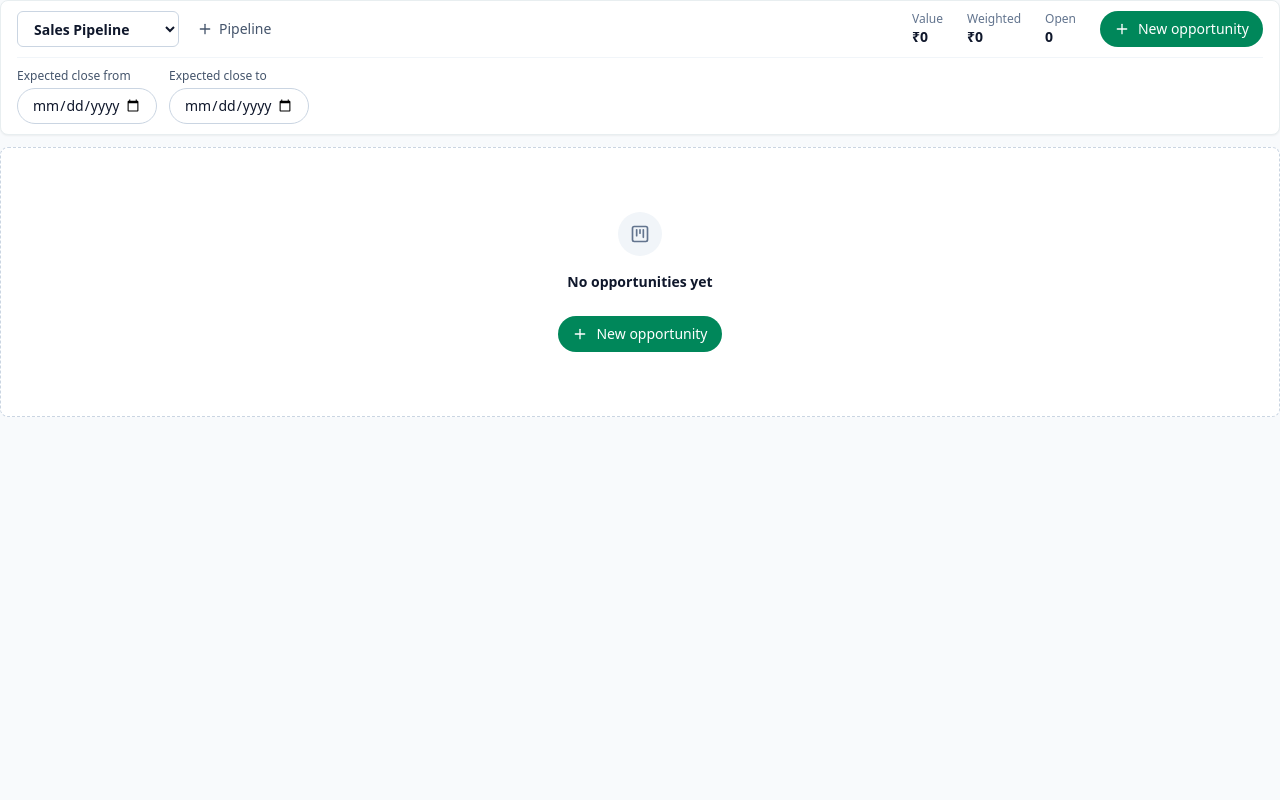
Test case: choosing and configuring pipelines › creates a pipeline from an editable template, with stages reordered by buttons
Click the button with aria-label "New pipeline".
click(234, 29)  # box top-left (187, 13), bottom-right (281, 45)
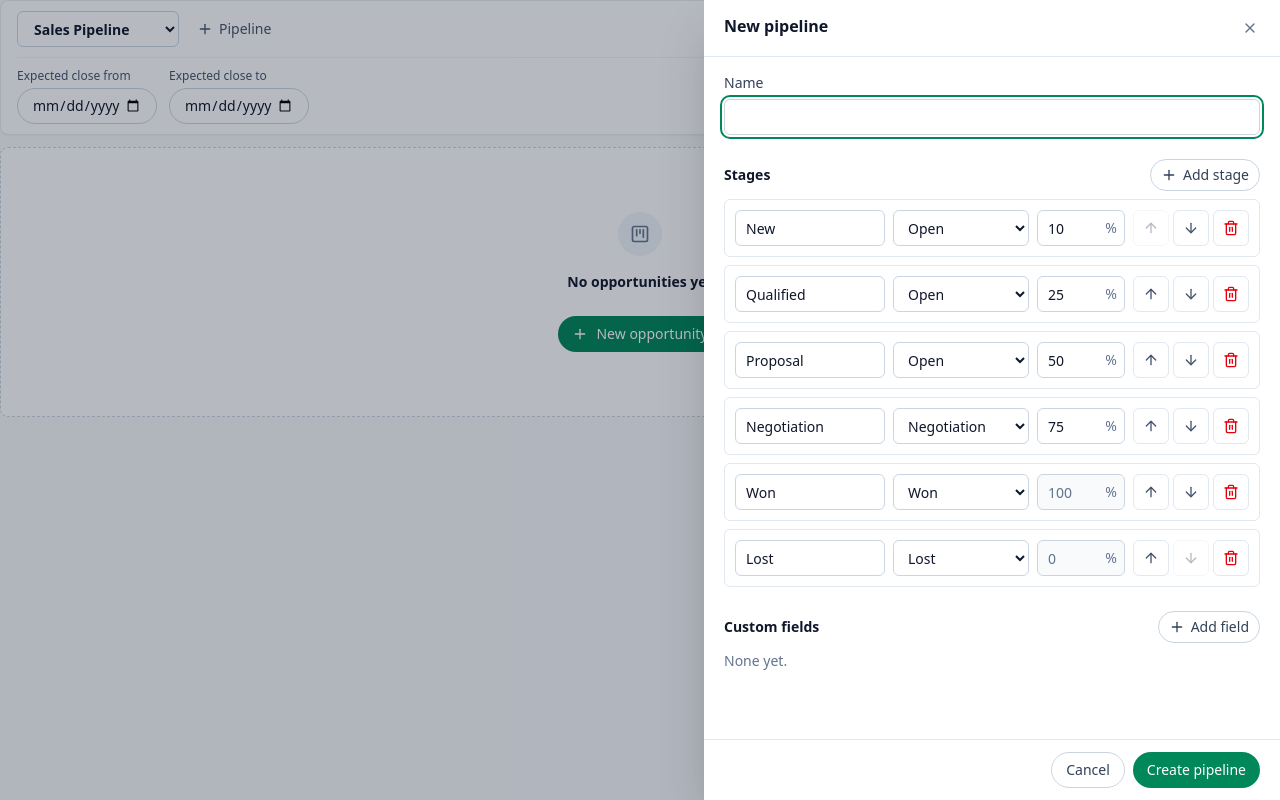
Type "Diagnostics Sales" into the field labelled "Name".
click(992, 117); type("Diagnostics Sales")  # box top-left (724, 99), bottom-right (1260, 135)
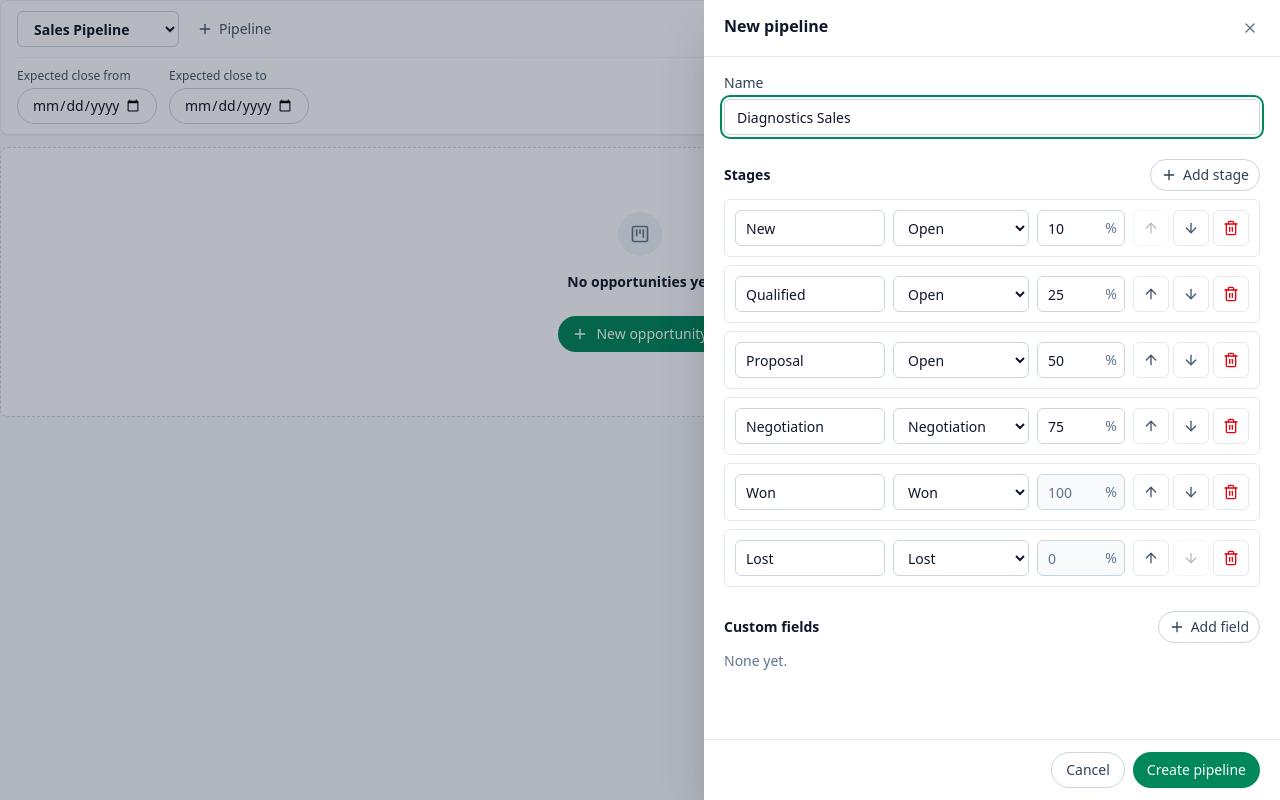
// Rename "Proposal" to "Demo", move it above "Qualified", remove "Lost".
Replace the text in the 5th field named "Stage 3 name" with "Demo" at (810, 360), box top-left (735, 342), bottom-right (885, 378)
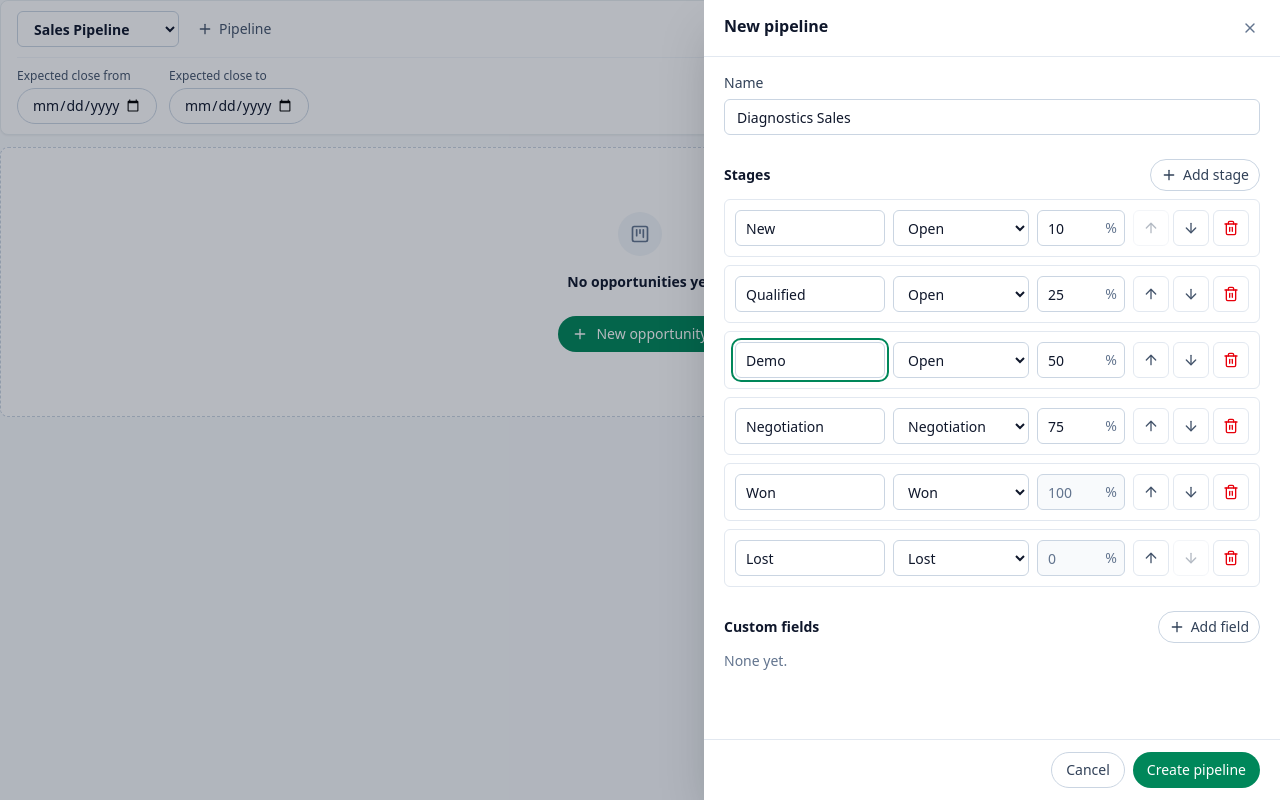
Click the button named "Move Demo up".
click(1151, 360)  # box top-left (1133, 342), bottom-right (1169, 378)
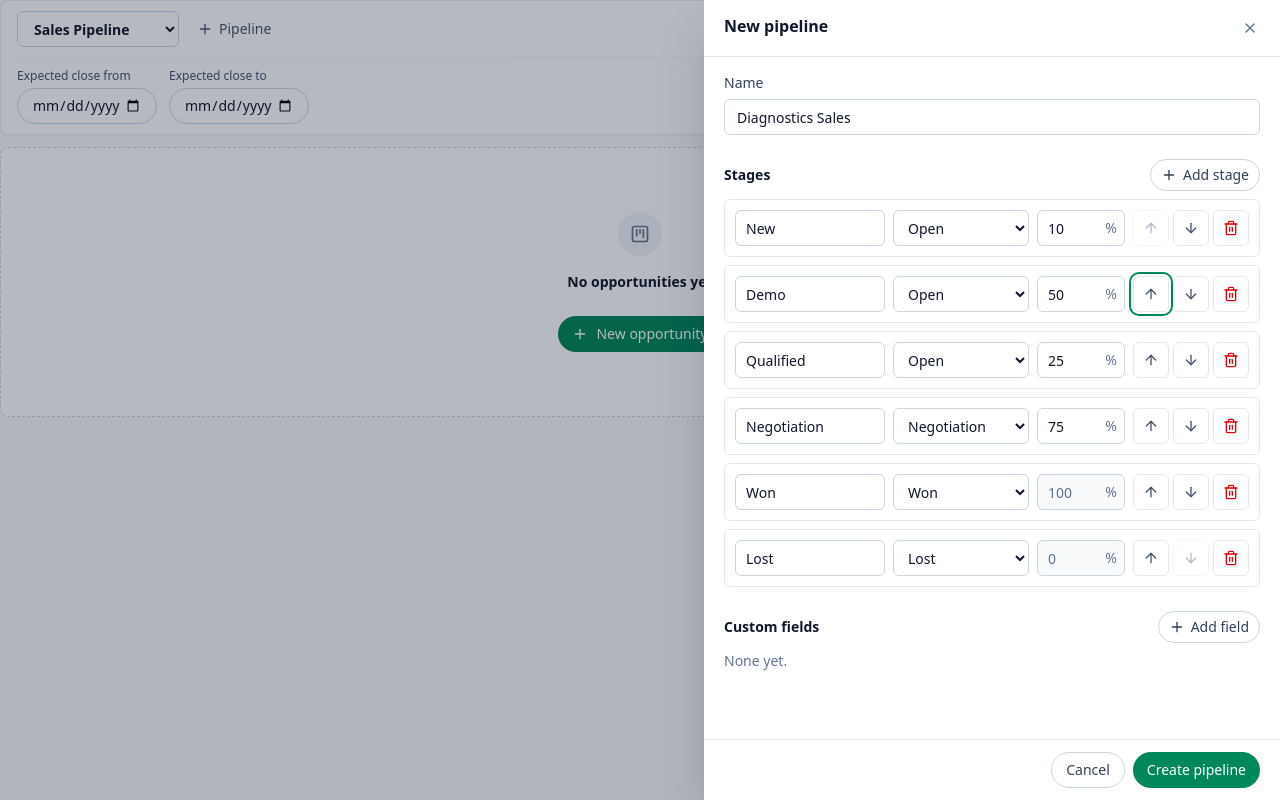
Click the button named "Remove Lost".
click(1231, 558)  # box top-left (1213, 540), bottom-right (1249, 576)
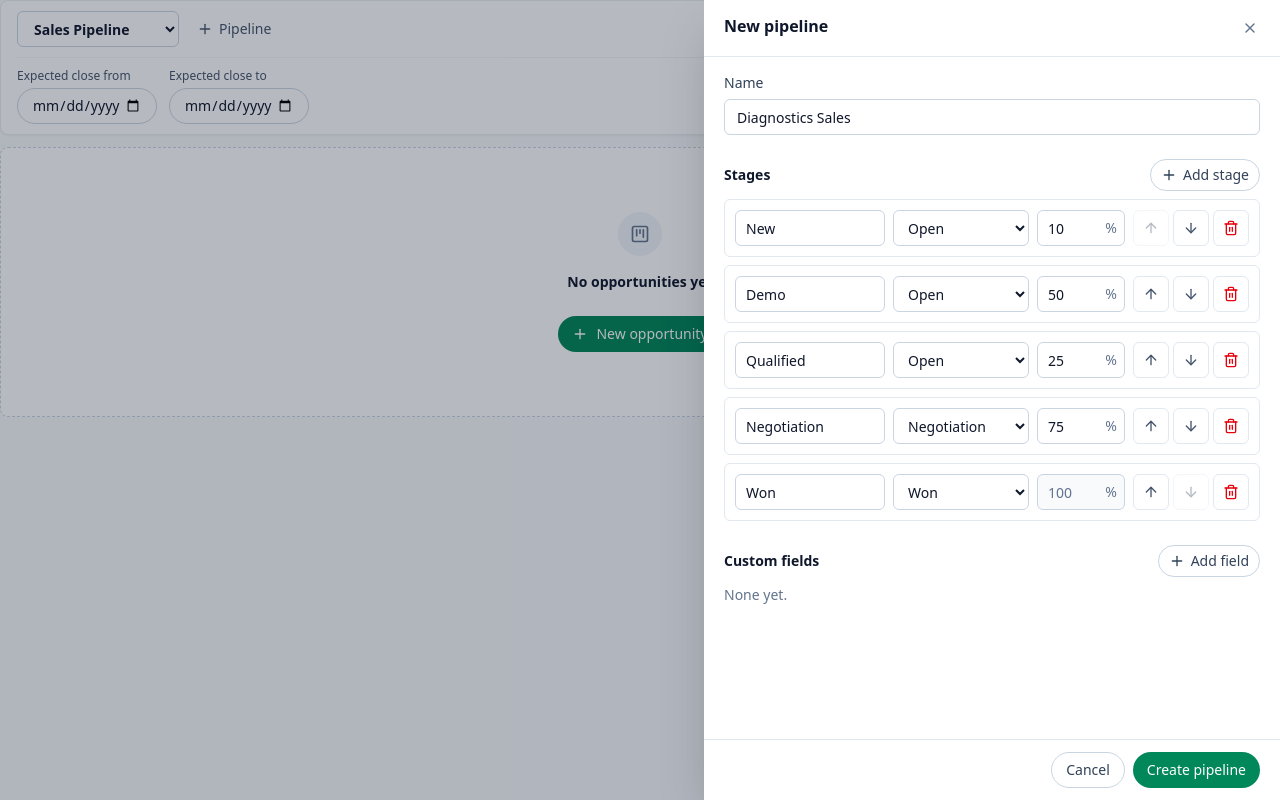
Click the button "Create pipeline".
click(1196, 770)  # box top-left (1133, 752), bottom-right (1260, 788)
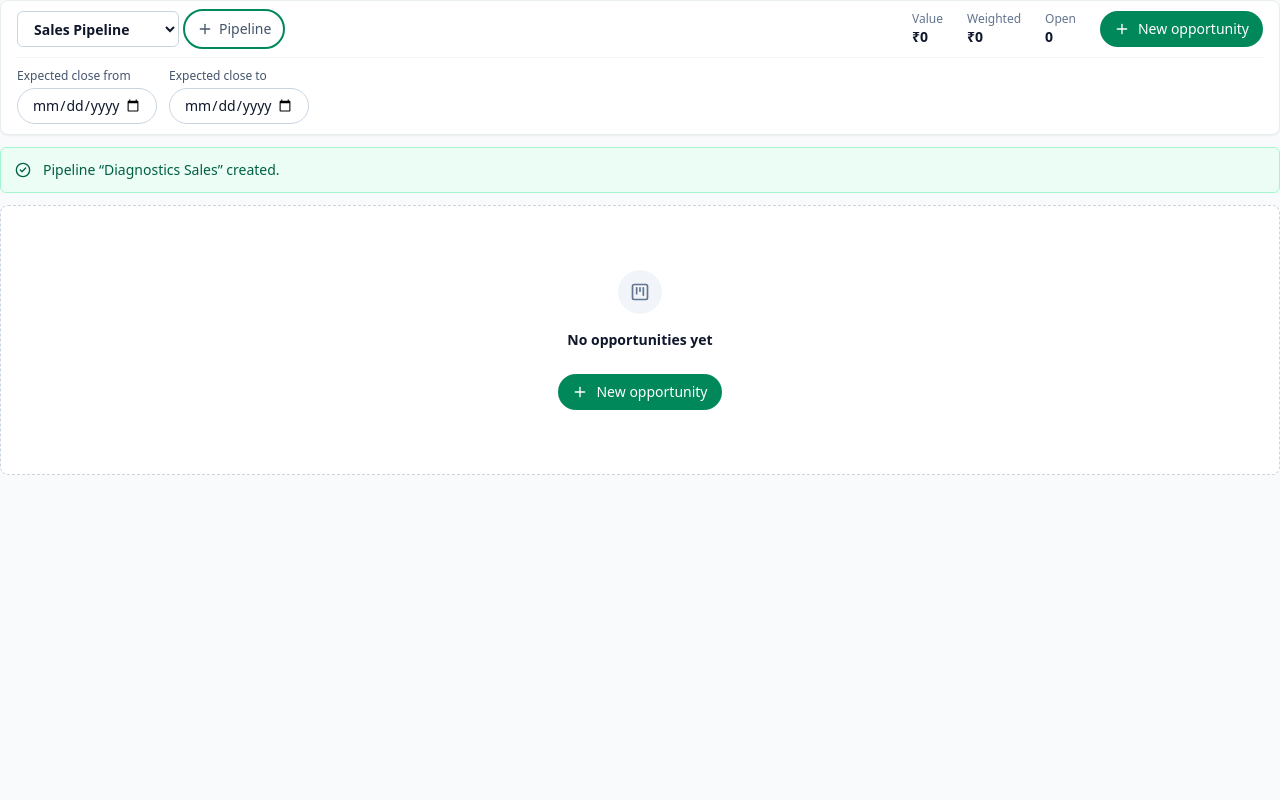
Check: the text "Pipeline “Diagnostics Sales” created." is shown, box top-left (43, 160), bottom-right (280, 179)
